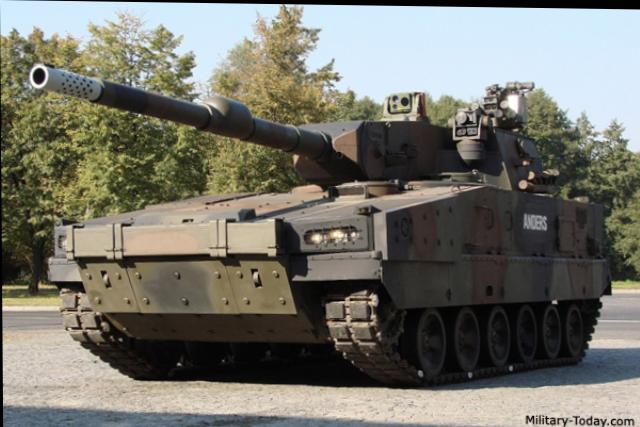tank: (68, 164, 611, 382)
